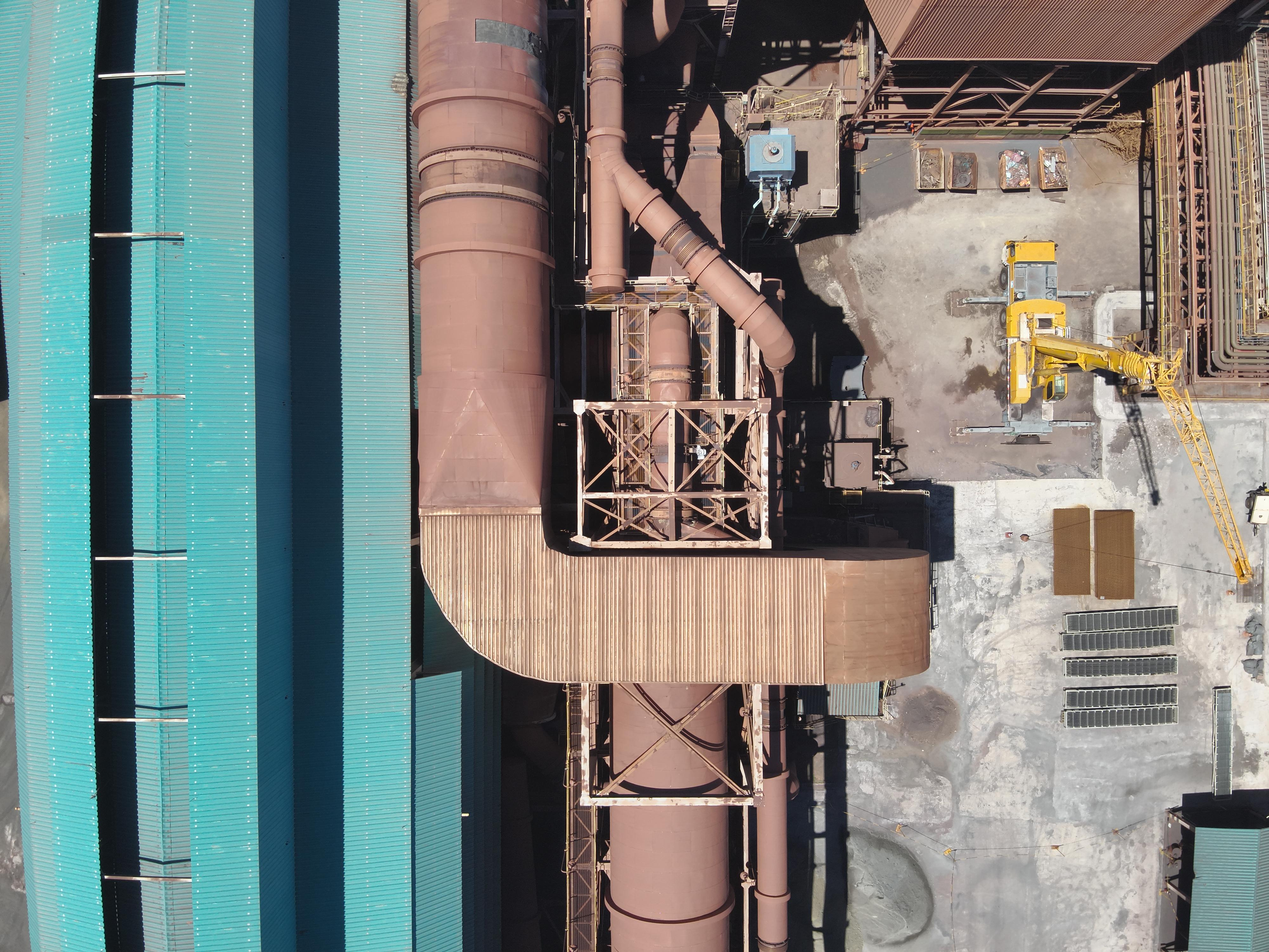Failures: (475, 16, 552, 64)
